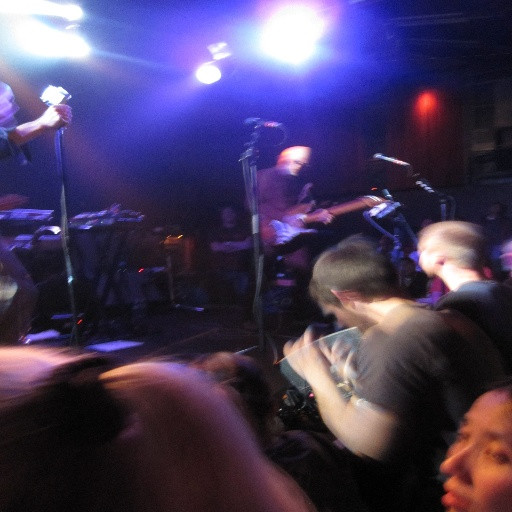hand: (279, 327, 336, 381), (316, 336, 357, 379), (39, 103, 70, 131), (310, 206, 335, 227), (284, 214, 303, 228)
